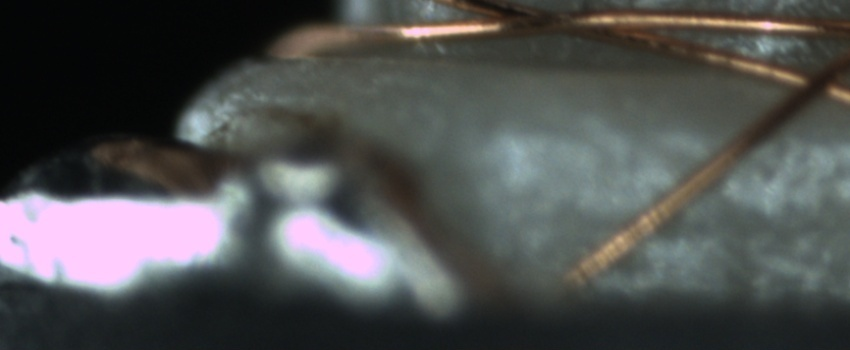CL: (778, 58, 845, 110)
DL: (531, 111, 849, 175), (557, 199, 849, 262)
